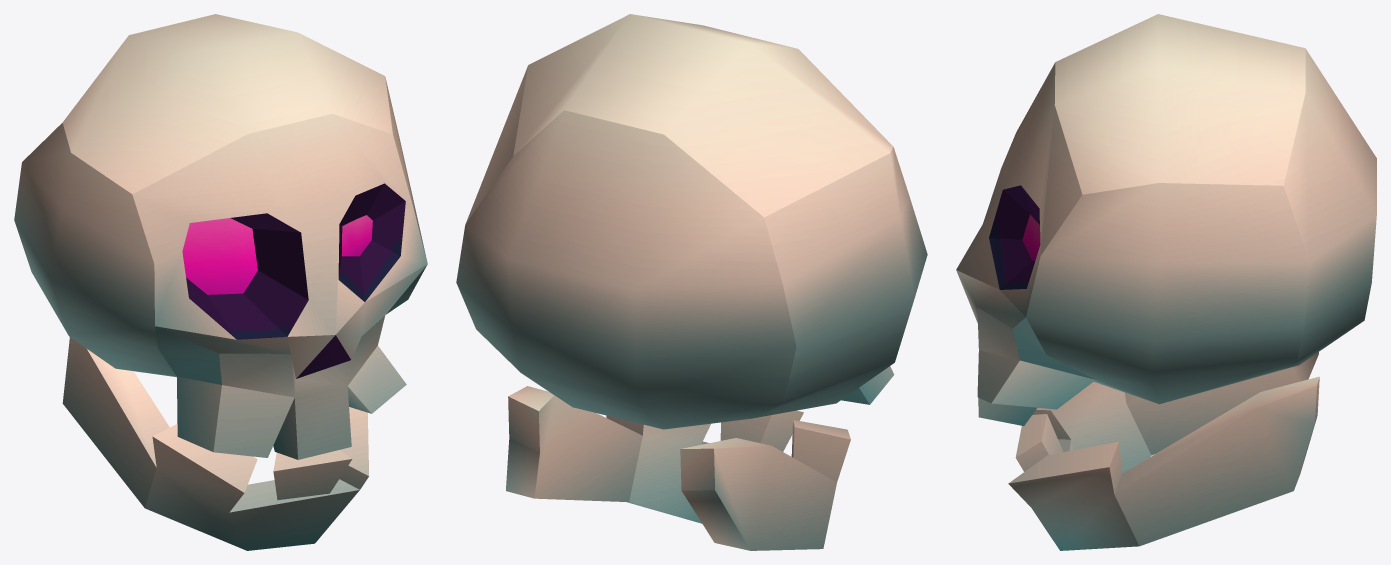
Rendered from Skull1.fbx.
3 renders of one model, left to right at view 1: azimuth 30°, elevation 25°; view 2: azimuth 150°, elevation 25°; view 3: azimuth 270°, elevation 25°, orthographic. The views are drawn at different scales.
Visible parts, largest first — view 1: pCube22, pCube21; view 2: pCube22, pCube21; view 3: pCube22, pCube21.
Part boxes in pixels (box(x1,y1,x2,y2)): pCube22: box(14, 14, 427, 459); pCube21: box(62, 337, 368, 550); pCube22: box(456, 14, 927, 429); pCube21: box(506, 386, 850, 550); pCube22: box(956, 14, 1376, 425); pCube21: box(1008, 352, 1319, 550).
Size of the model in its own units: 1.71 by 2.12 by 1.62.
